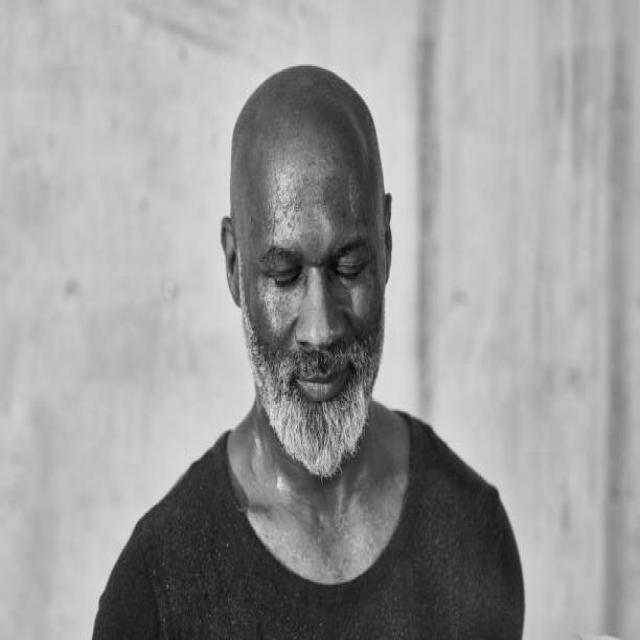real: (221, 65, 396, 475), (249, 232, 386, 290)
